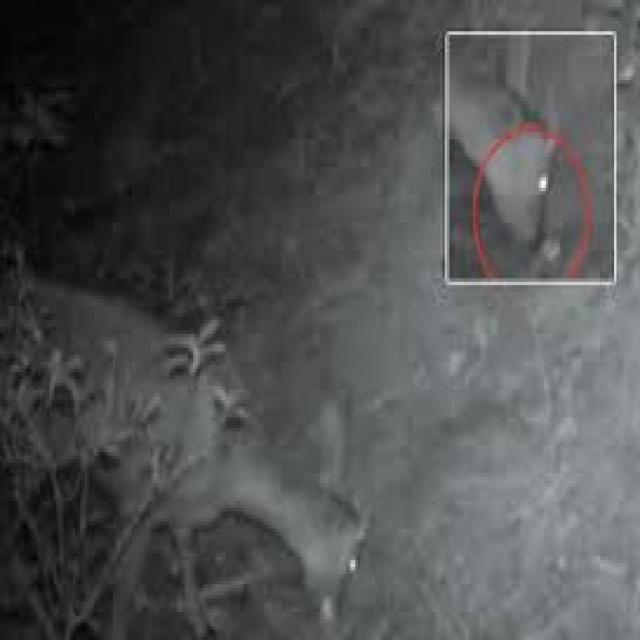elk: (0, 222, 383, 640), (450, 43, 569, 253)
